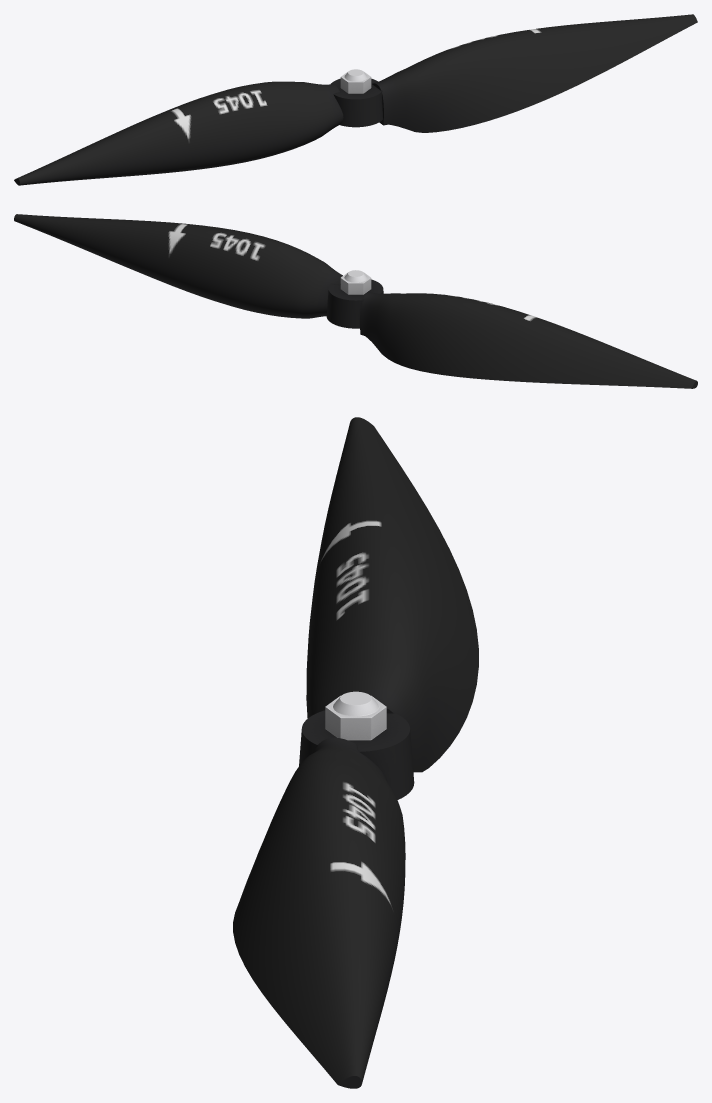
The model's file is prop_1045_ccw_visual.glb.
3 renders of one model, top to bottom at view 1: azimuth 30°, elevation 25°; view 2: azimuth 150°, elevation 25°; view 3: azimuth 270°, elevation 25°, orthographic. The views are drawn at different scales.
Parts seen in each view (by area): view 1: prop_1045_ccw; view 2: prop_1045_ccw; view 3: prop_1045_ccw.
Part boxes in pixels (<box>): prop_1045_ccw: <box>14,14,697,185</box>; prop_1045_ccw: <box>14,214,697,388</box>; prop_1045_ccw: <box>233,417,478,1088</box>.
Bounding box in the file's own units: 0.254 × 0.0238 × 0.0401.
3 materials, 3 textured.
